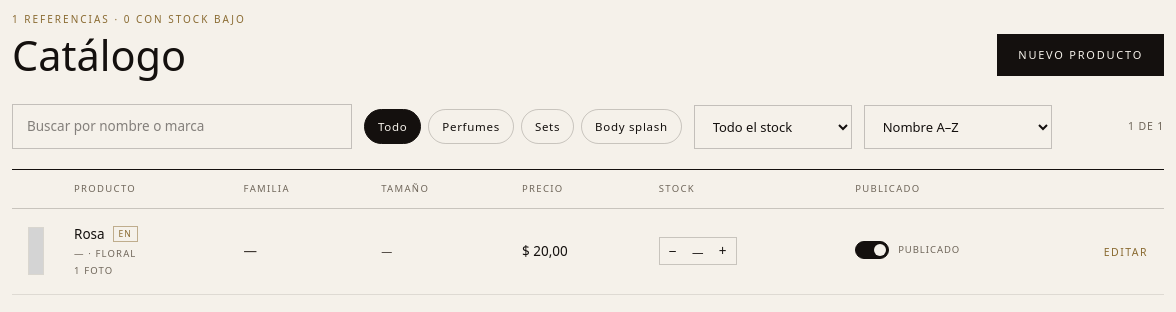
Scenario: catalog list › filters by the design category chips
Check: the text "Rosa" is shown, box [74,224,105,244]
Click the button "Perfumes". click: [471, 127]
box: [428,109,514,144]
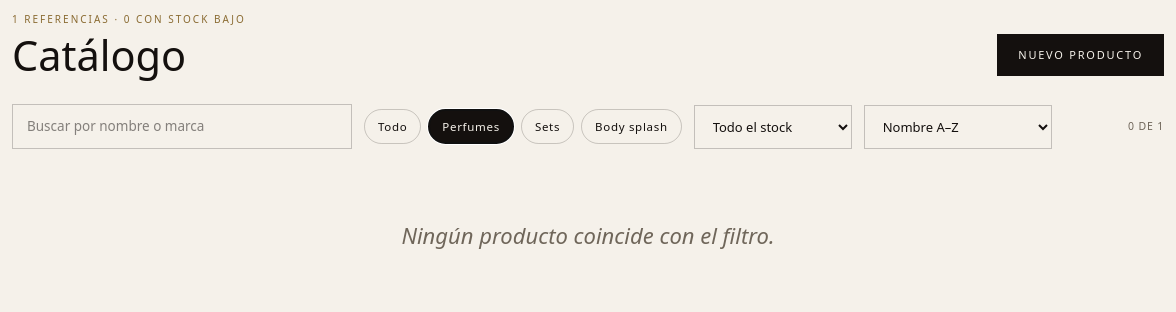
Check: the text "Ningún producto coincide con el filtro." is shown, box [401,220,775,250]
Check: the text "Rosa" is gone
